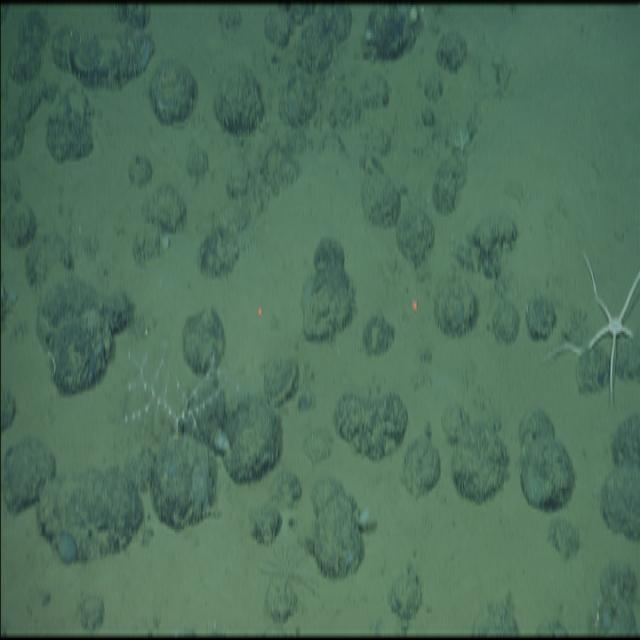Brittle Star: (546, 256, 639, 412)
Not Brittle Star: (120, 340, 244, 451)
